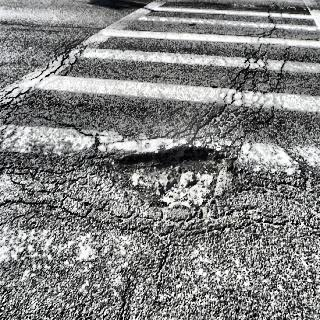alligator-crack: (178, 8, 288, 148), (1, 148, 110, 222), (242, 165, 320, 229), (50, 32, 90, 72), (20, 62, 58, 94), (1, 84, 28, 125)
crack: (154, 235, 180, 297), (117, 252, 141, 317)
pothole: (112, 147, 235, 220)
